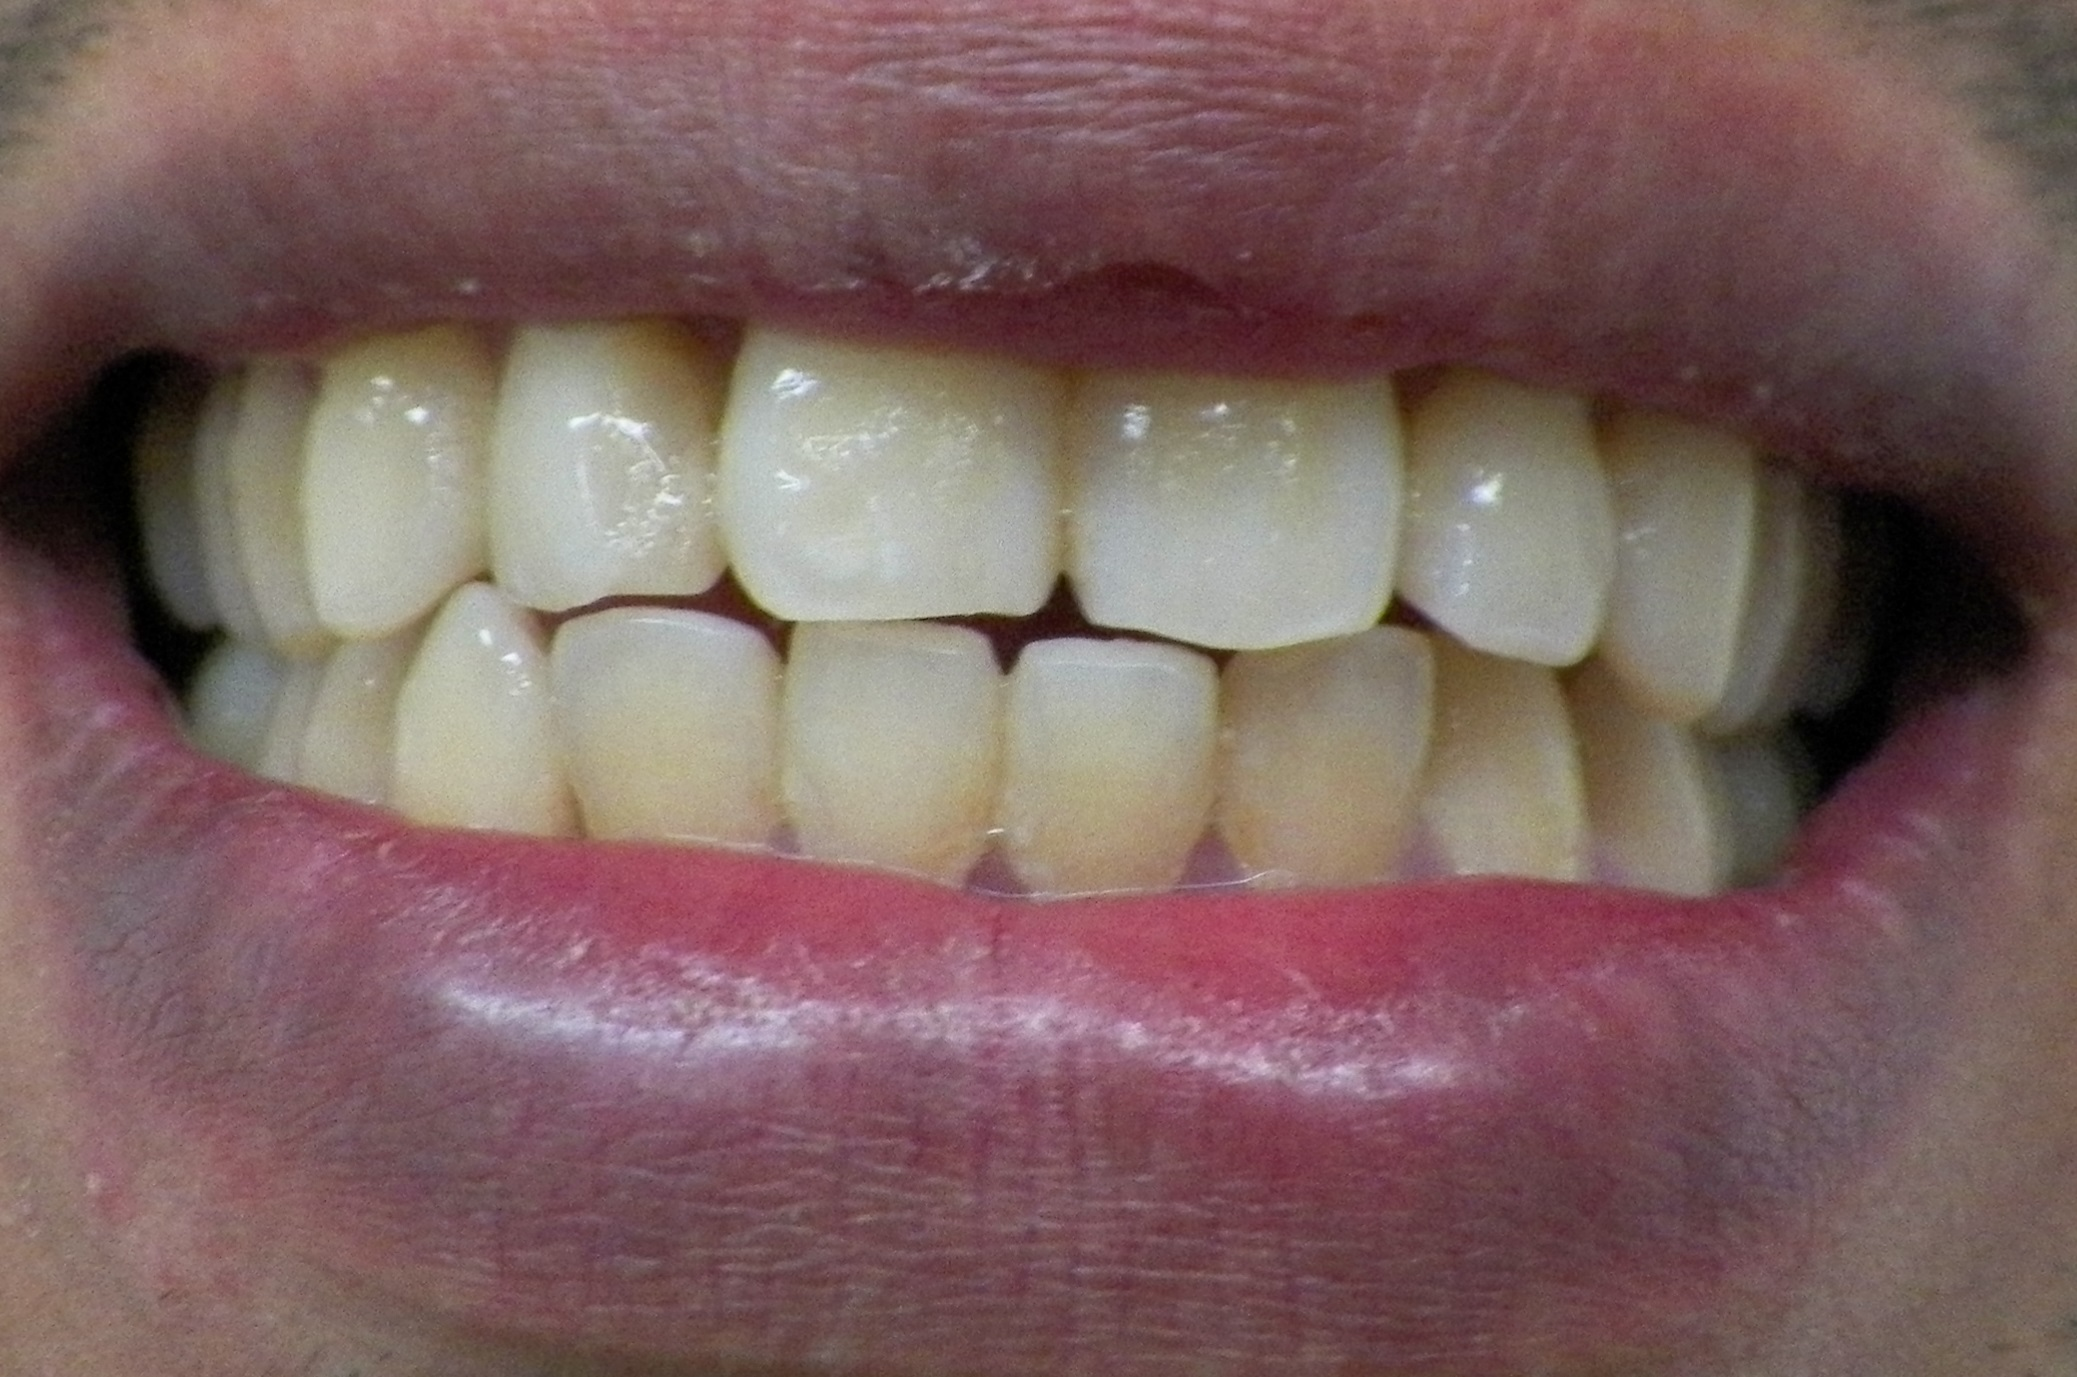boca: (149, 327, 1922, 893)
